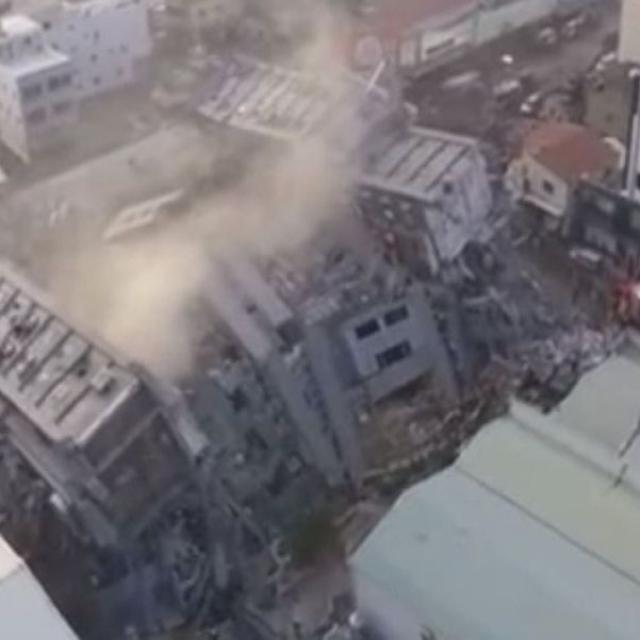collapsed_building: (0, 53, 494, 554)
